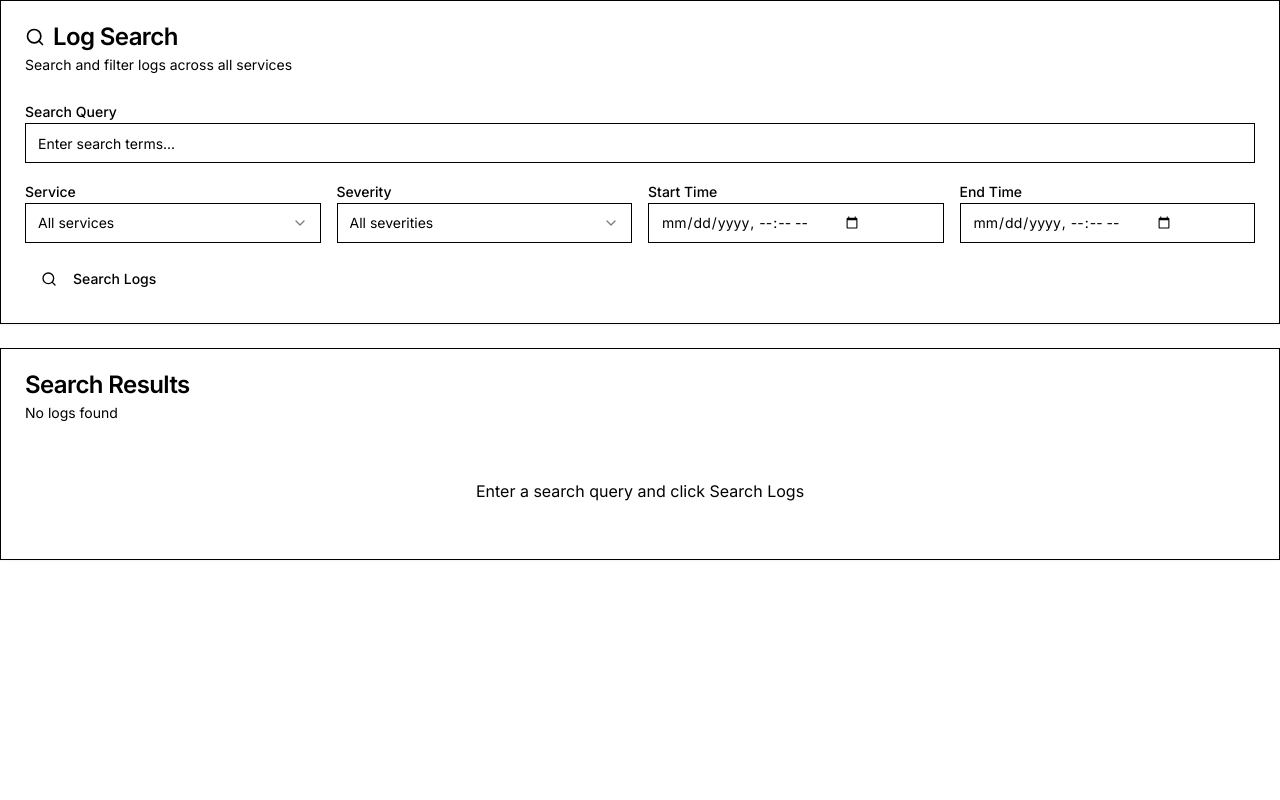
Scenario: LogSearch › displays search results after search
Click the button "Search Logs" at (99,279), box [25,259,172,299]
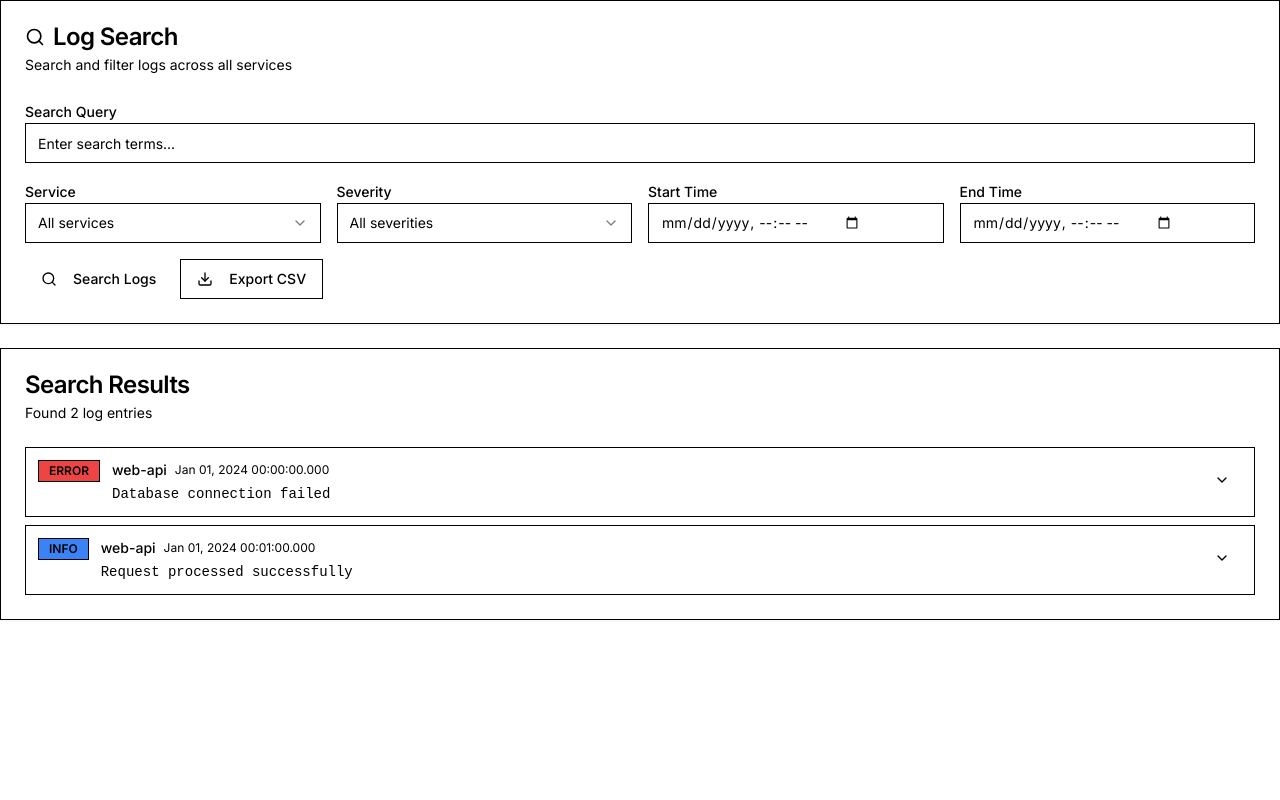
Expected: the text "Database connection failed" is shown, [112,486,330,502]
Expected: the text "Request processed successfully" is shown, [101,564,353,580]
